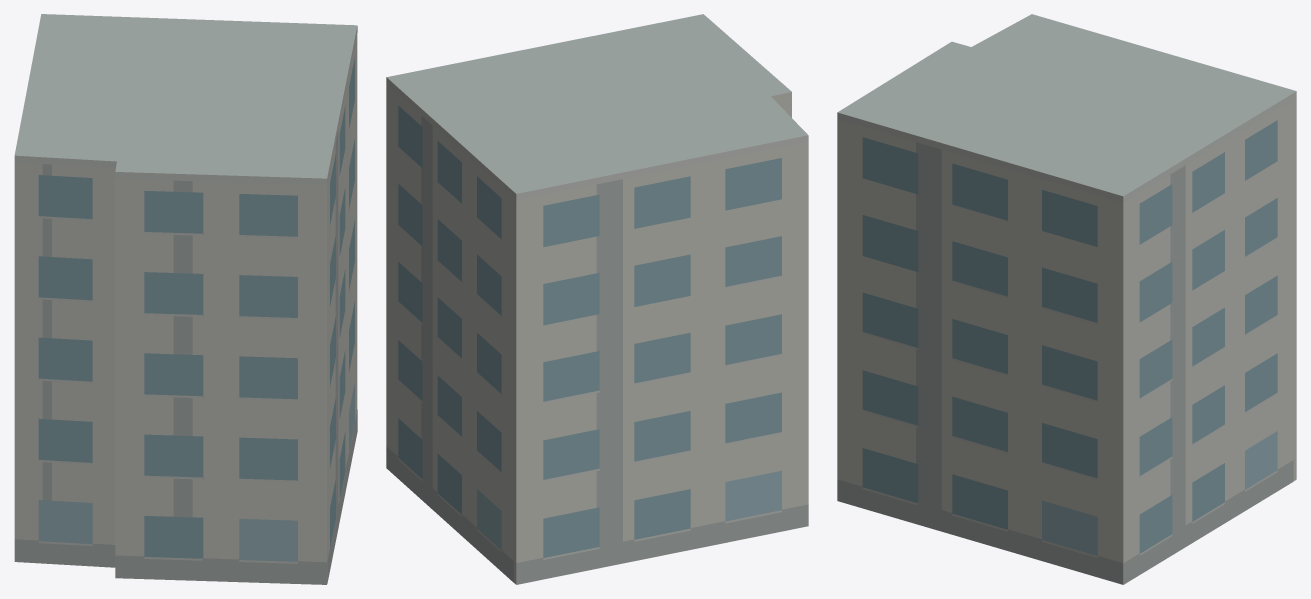
The model's file is survey-upis-32619800.glb.
3 renders of one model, left to right at view 1: azimuth 30°, elevation 25°; view 2: azimuth 150°, elevation 25°; view 3: azimuth 270°, elevation 25°, orthographic. The views are drawn at different scales.
Parts seen in each view (by area): view 1: survey-upis-32619800.tmp; view 2: survey-upis-32619800.tmp; view 3: survey-upis-32619800.tmp.
Boxes of the visible parts, left/top/right/bottom form: survey-upis-32619800.tmp: left=14, top=14, right=357, bottom=584; survey-upis-32619800.tmp: left=386, top=14, right=808, bottom=584; survey-upis-32619800.tmp: left=837, top=14, right=1296, bottom=584.
Bounding box in the file's own units: 14.5 × 14.4 × 15.44.
